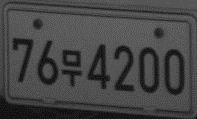0: (136, 46, 161, 96), (162, 47, 185, 96)
2: (111, 44, 136, 93)
4: (86, 41, 110, 90)
6: (35, 40, 59, 85)
7: (11, 36, 34, 83)
무: (60, 48, 83, 87)
